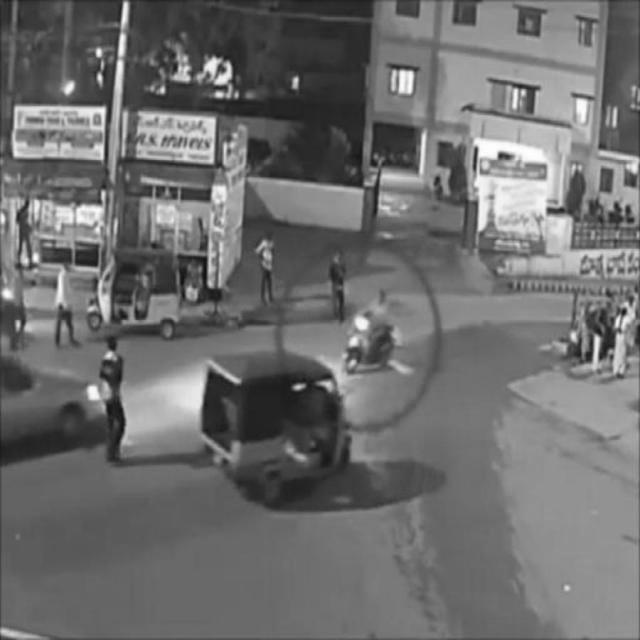person: (100, 340, 132, 464), (253, 233, 279, 315), (57, 264, 77, 352), (329, 247, 349, 327), (16, 194, 36, 268)
vehicle: (200, 351, 352, 499), (90, 247, 182, 339), (345, 291, 403, 375)
